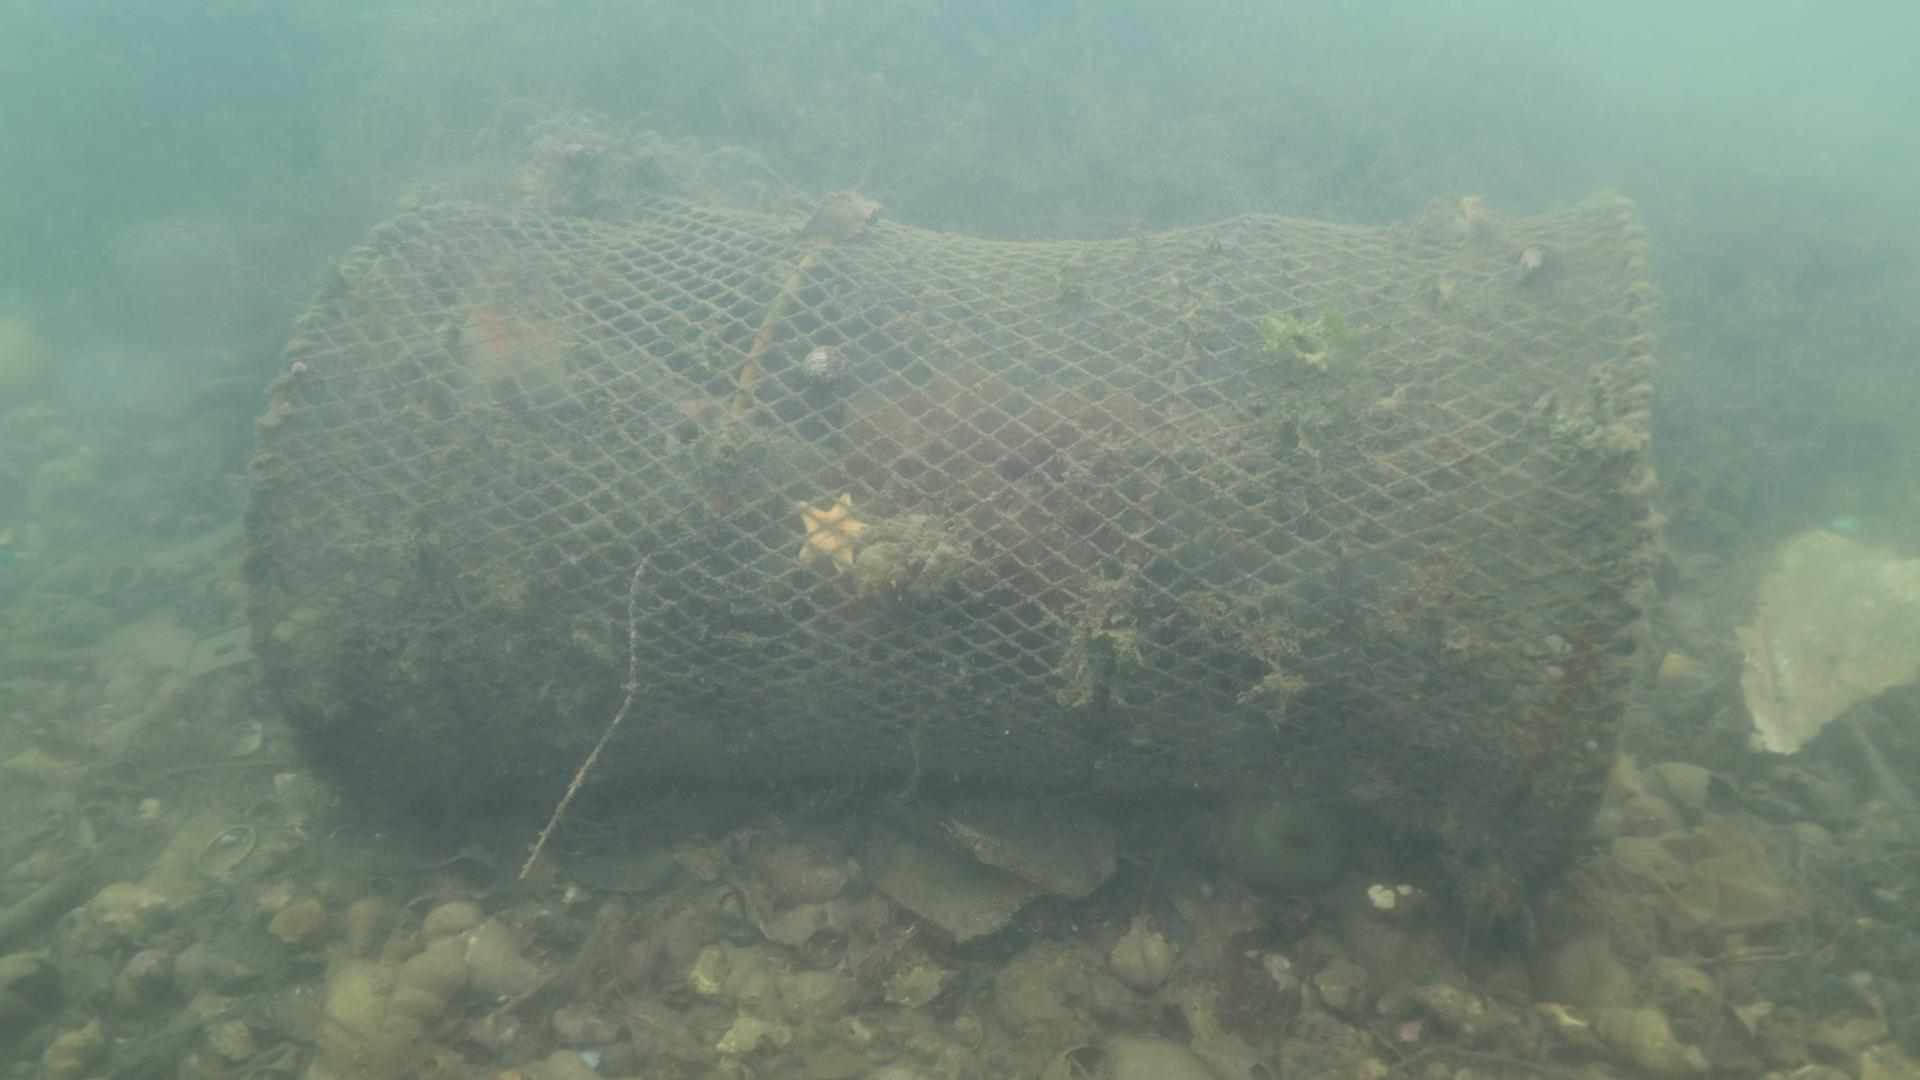spring fish trap: (237, 185, 1654, 891)
